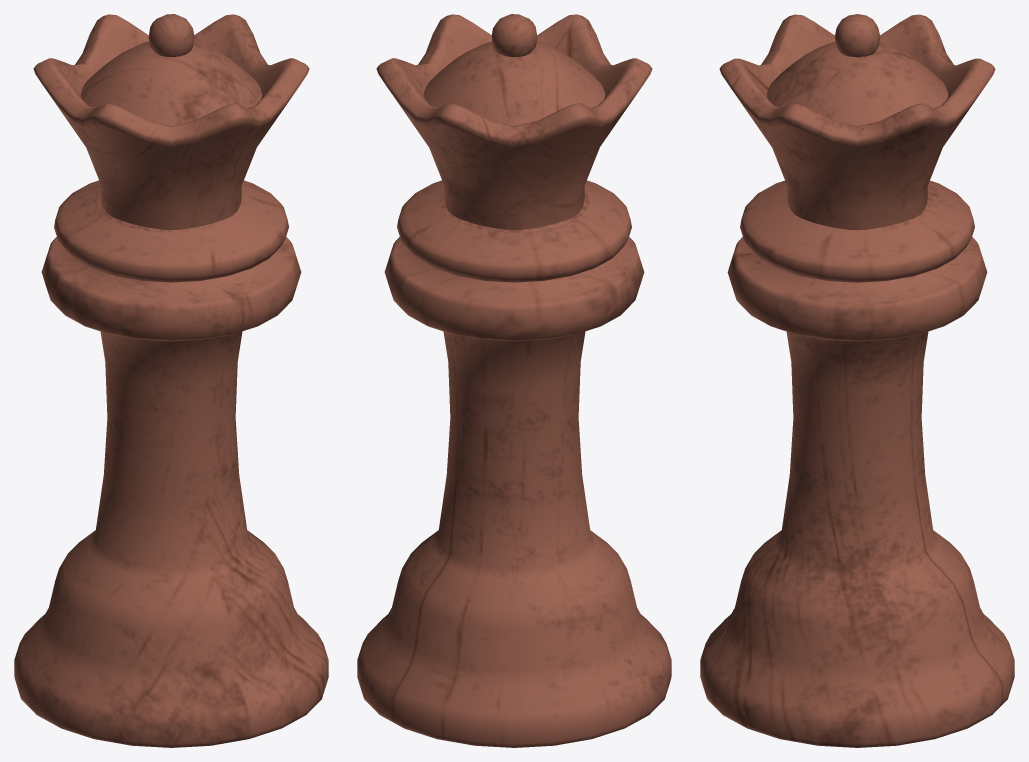
File: GEO_BlackQueen.gltf
3 views of the same model, side by side, from view 1: azimuth 30°, elevation 25°; view 2: azimuth 150°, elevation 25°; view 3: azimuth 270°, elevation 25° (orthographic).
Parts seen in each view (by area): view 1: GEO_BlackQueen; view 2: GEO_BlackQueen; view 3: GEO_BlackQueen.
Boxes of the visible parts, x1=… form: GEO_BlackQueen: x1=14, y1=14, x2=328, y2=747; GEO_BlackQueen: x1=357, y1=14, x2=671, y2=747; GEO_BlackQueen: x1=700, y1=14, x2=1014, y2=747.
Size of the model in its own units: 0.0374 by 0.0876 by 0.0374.
